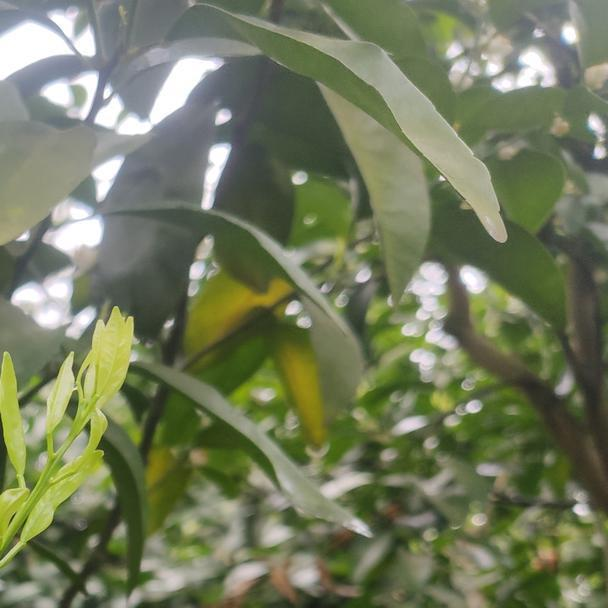shoot: (2, 312, 142, 544)
